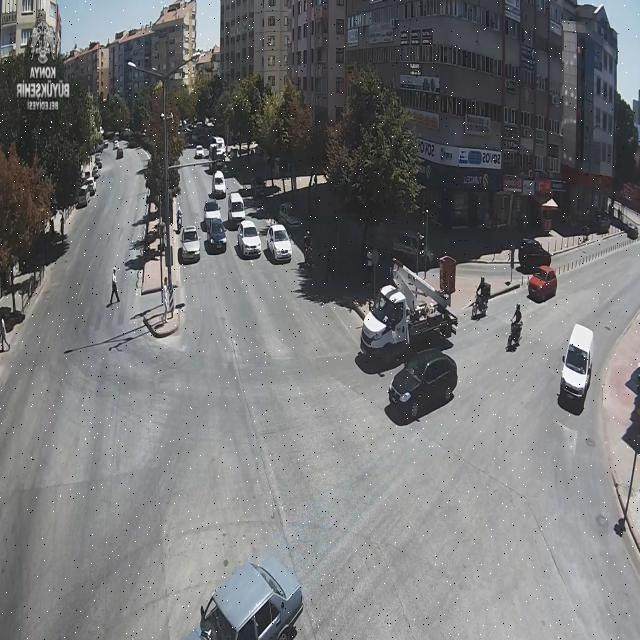Car: (182, 554, 306, 638), (388, 350, 458, 419), (557, 318, 599, 410), (390, 231, 437, 270), (518, 239, 551, 271), (528, 266, 556, 302), (237, 220, 263, 258), (266, 225, 292, 262), (206, 215, 228, 251), (180, 226, 202, 261), (278, 202, 303, 227), (204, 199, 223, 231), (228, 193, 245, 223), (212, 170, 226, 198), (210, 136, 225, 160), (76, 187, 89, 208), (85, 176, 96, 194), (194, 145, 206, 158), (92, 165, 100, 178), (95, 155, 102, 169), (113, 140, 119, 150)
Cycle: (470, 273, 492, 318), (506, 302, 524, 348), (176, 205, 184, 232)
Truck: (360, 269, 456, 351)
